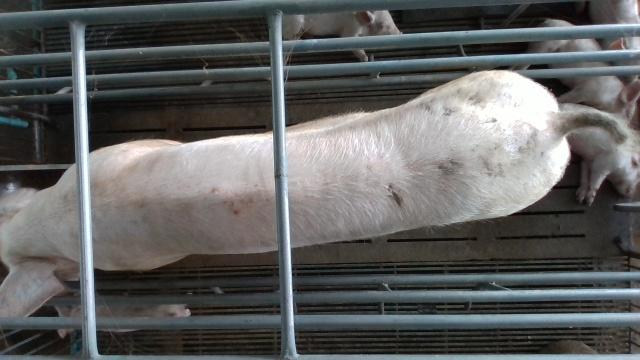piglet: (512, 18, 640, 129), (559, 102, 640, 207), (283, 10, 402, 62), (55, 304, 192, 339), (589, 0, 640, 85)
sow-stand-feed: (0, 72, 628, 317)
